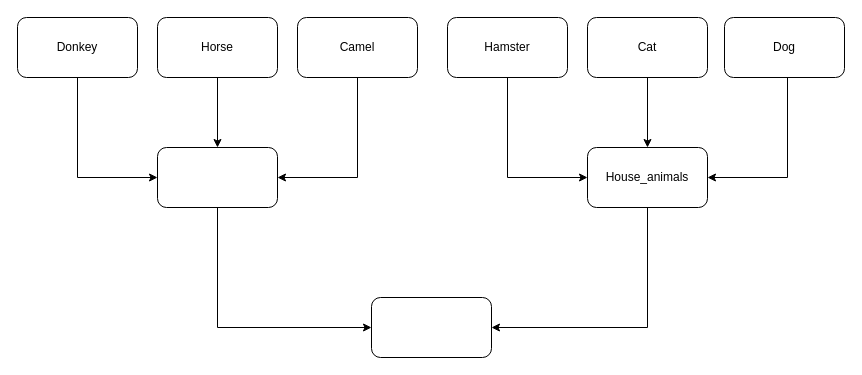
Image size: 862x375. Some labels were removed from this diagram. The shapes that lost their labels are listed below. From the top down, each one's centre as x and y in pixels, then its label:
(x=217, y=177): Pack_animals
(x=431, y=327): Animals
